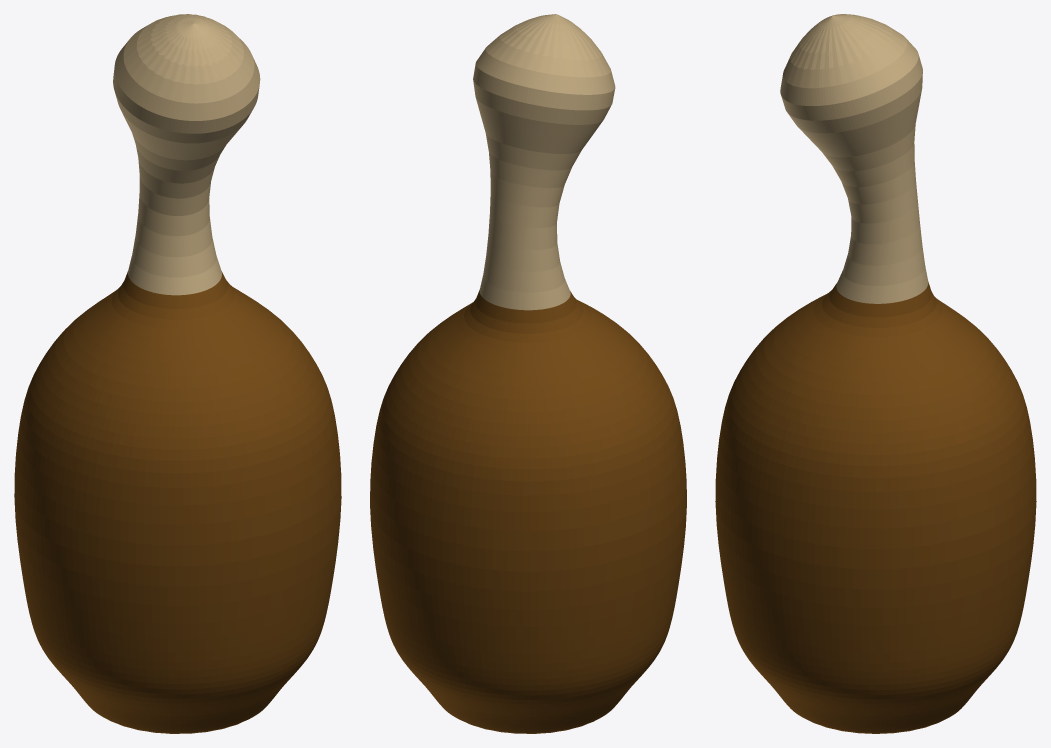
Rendered from chickenlegyay.fbx.
The picture shows the model from 3 angles, left to right: view 1: azimuth 30°, elevation 25°; view 2: azimuth 150°, elevation 25°; view 3: azimuth 270°, elevation 25°; orthographic projection. The views are drawn at different scales.
Parts seen in each view (by area): view 1: Circle; view 2: Circle; view 3: Circle.
Boxes of the visible parts, box(x1,y1,x2,y2) form: Circle: box(14, 14, 341, 733); Circle: box(370, 14, 686, 733); Circle: box(715, 14, 1036, 733).
Bounding box in the file's own units: 384 × 903 × 384.
